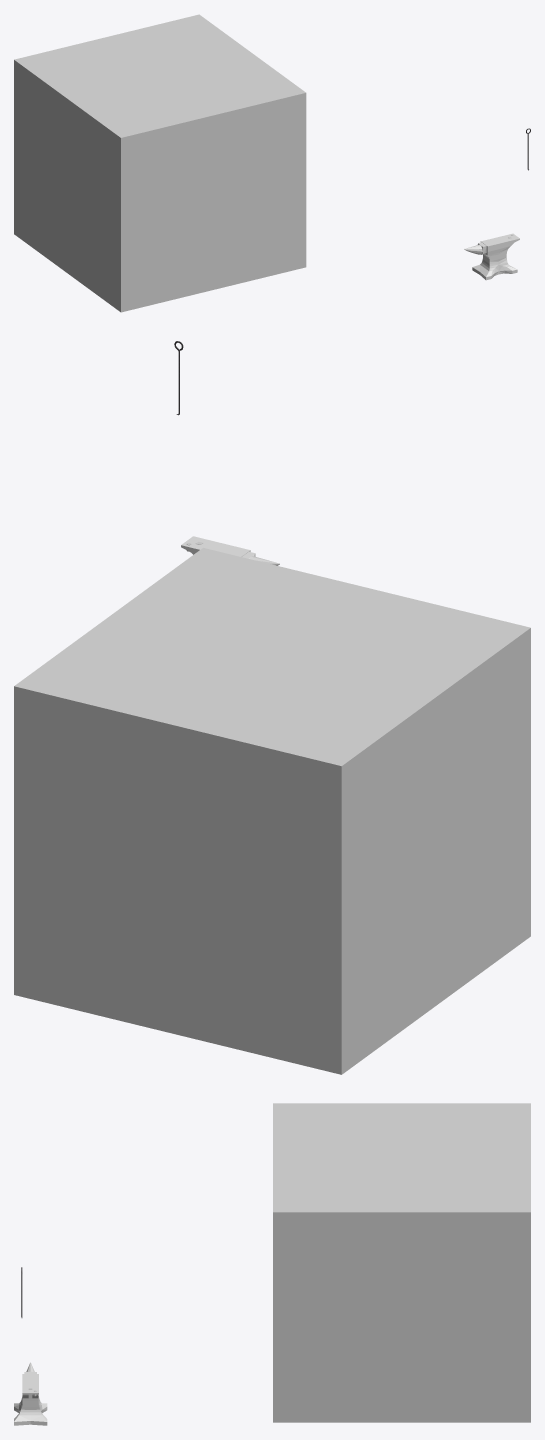
Rendered from poker.dae.
3 renders of one model, top to bottom at view 1: azimuth 30°, elevation 25°; view 2: azimuth 150°, elevation 25°; view 3: azimuth 270°, elevation 25°, orthographic. The views are drawn at different scales.
Visible parts, largest first — view 1: Cube_004, Cube_002; view 2: Cube_004, Cube_002; view 3: Cube_004, Cube_002.
Boxes of the visible parts, <box> form: Cube_004: <box>14,14,306,312</box>; Cube_002: <box>464,233,519,280</box>; Cube_004: <box>14,547,530,1074</box>; Cube_002: <box>181,536,279,565</box>; Cube_004: <box>273,1103,530,1422</box>; Cube_002: <box>14,1362,47,1425</box>.
Size of the model in its own units: 3.3 by 4.01 by 1.92.
1 material, 1 textured.
